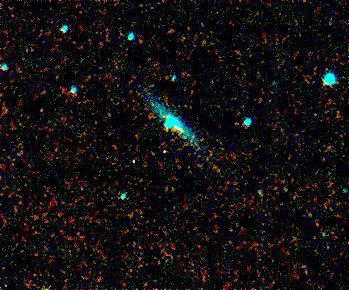star: (148, 136, 178, 166)
